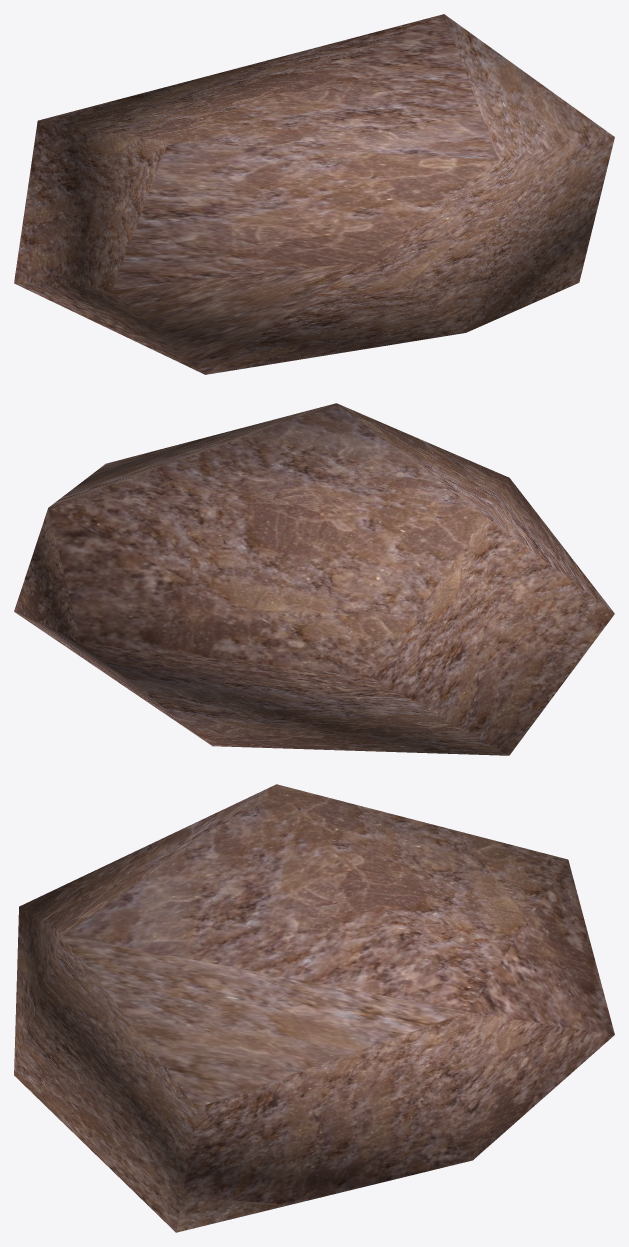
File: Rock2_30.obj
The picture shows the model from 3 angles, top to bottom: view 1: azimuth 30°, elevation 25°; view 2: azimuth 150°, elevation 25°; view 3: azimuth 270°, elevation 25°; orthographic projection. The views are drawn at different scales.
Visible parts, largest first — view 1: Icosphere.001; view 2: Icosphere.001; view 3: Icosphere.001.
Boxes of the visible parts, box(x1,y1,x2,y2) form: Icosphere.001: box(14, 14, 614, 374); Icosphere.001: box(14, 403, 614, 755); Icosphere.001: box(14, 784, 614, 1232).
Bounding box in the file's own units: 2.78 × 1.05 × 2.42.
